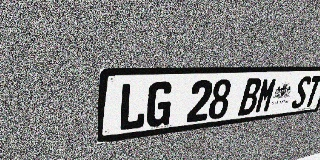2: (186, 80, 214, 123)
8: (207, 79, 234, 120)
B: (238, 78, 263, 116)
G: (145, 81, 175, 128)
L: (117, 82, 148, 132)
M: (254, 77, 278, 114)
S: (290, 76, 313, 109)
T: (303, 75, 320, 107)
